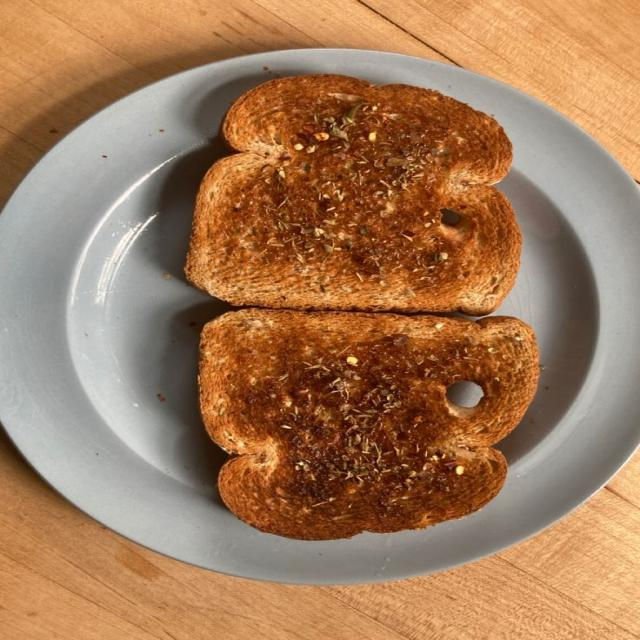toast bread: (0, 0, 639, 207), (0, 434, 639, 639), (185, 74, 521, 315), (199, 309, 538, 540)
